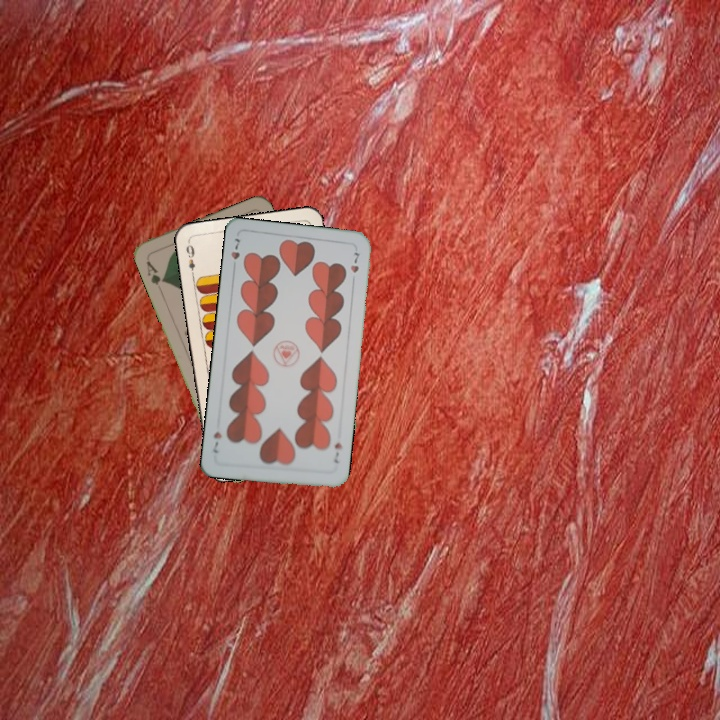E9: (182, 238, 197, 279)
GA: (142, 257, 167, 288)
H7: (227, 234, 243, 262), (330, 438, 344, 466)
